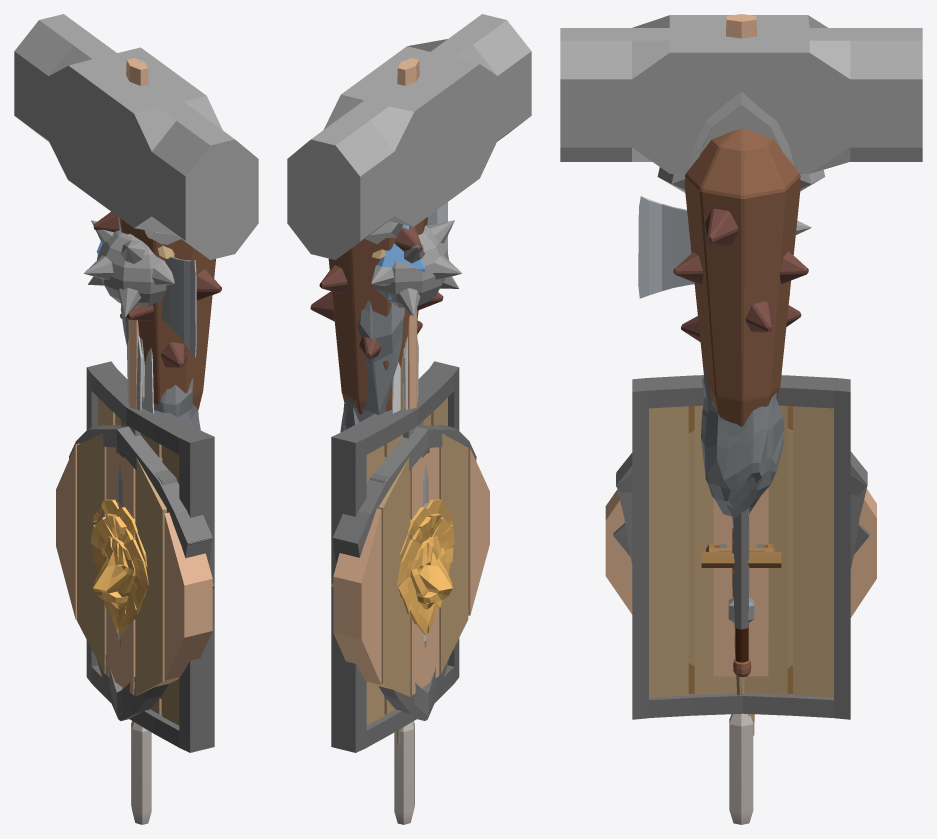
File: test_weapon.fbx
3 views of the same model, side by side, from view 1: azimuth 30°, elevation 25°; view 2: azimuth 150°, elevation 25°; view 3: azimuth 270°, elevation 25° (orthographic). The views are drawn at different scales.
Visible parts, largest first — view 1: Hammer_smith, Sheild_wood, Sheild_tower, Club_giant, Sheild_knight, Sheild_steel, Mace_morningstar, oneh_axe, Staff_wooden, Club_stone, TwohandSword_knight, OnehandSword_gladius (+1 smaller); view 2: Hammer_smith, Sheild_wood, Sheild_tower, Club_giant, Sheild_knight, Sheild_steel, Mace_morningstar, Club_stone, Staff_wooden, Staff_scholarship, Staff_sorcerer; view 3: Sheild_tower, Hammer_smith, Club_giant, Sheild_wood, Club_stone, oneh_axe, Staff_wooden, Staff_sorcerer, Sheild_steel, Sheild_knight.
Part boxes in pixels (bbox=[...]): Hammer_smith: bbox=[14, 14, 258, 409]; Sheild_wood: bbox=[56, 433, 212, 696]; Sheild_tower: bbox=[86, 361, 214, 752]; Club_giant: bbox=[93, 211, 221, 409]; Sheild_knight: bbox=[89, 424, 214, 720]; Sheild_steel: bbox=[69, 425, 212, 715]; Mace_morningstar: bbox=[84, 220, 174, 316]; oneh_axe: bbox=[161, 256, 196, 357]; Staff_wooden: bbox=[131, 337, 151, 824]; Club_stone: bbox=[120, 305, 200, 429]; TwohandSword_knight: bbox=[140, 60, 153, 413]; OnehandSword_gladius: bbox=[127, 336, 142, 410]; Hammer_smith: bbox=[287, 14, 531, 409]; Sheild_wood: bbox=[333, 433, 489, 696]; Sheild_tower: bbox=[331, 361, 459, 752]; Club_giant: bbox=[310, 217, 443, 414]; Sheild_knight: bbox=[331, 424, 456, 720]; Sheild_steel: bbox=[332, 425, 476, 716]; Mace_morningstar: bbox=[371, 220, 461, 316]; Club_stone: bbox=[340, 300, 404, 432]; Staff_wooden: bbox=[394, 348, 414, 824]; Staff_scholarship: bbox=[377, 224, 424, 743]; Staff_sorcerer: bbox=[365, 221, 402, 258]; Sheild_tower: bbox=[632, 375, 850, 719]; Hammer_smith: bbox=[560, 14, 922, 173]; Club_giant: bbox=[673, 128, 808, 676]; Sheild_wood: bbox=[605, 429, 876, 676]; Club_stone: bbox=[700, 294, 789, 599]; oneh_axe: bbox=[638, 196, 694, 298]; Staff_wooden: bbox=[729, 678, 753, 824]; Staff_sorcerer: bbox=[657, 91, 825, 695]; Sheild_steel: bbox=[616, 451, 867, 657]; Sheild_knight: bbox=[613, 474, 869, 609].
Size of the model in its own units: 0.2573 by 1.26 by 0.513.
